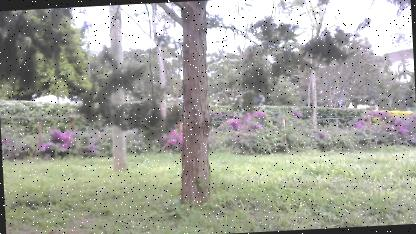tree: (158, 0, 224, 210), (92, 5, 140, 176)
